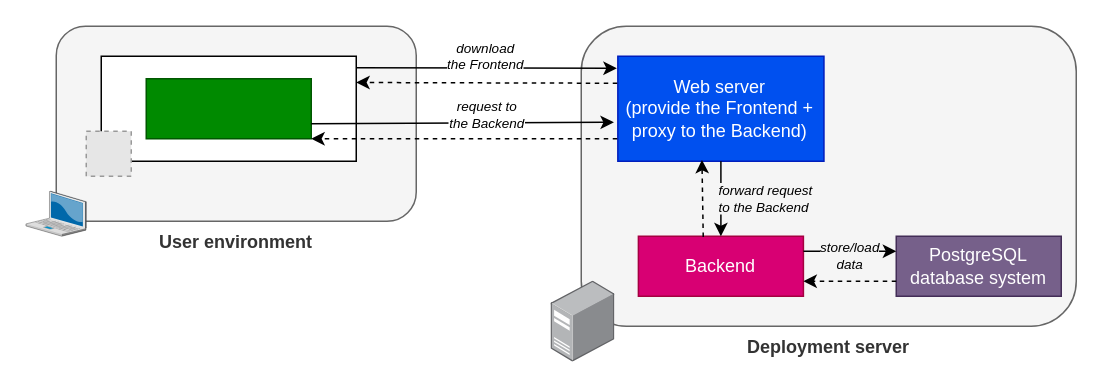
The diagram is 1103 pixels wide and 389 high, and some of its shapes have lost their labels. Grey dashed boxes stand in for pictures. The box of each missing label's shape, as (x1, y1, x2, y2) in pixels:
Browser (eg. Firefox): (100, 55, 356, 161)
Frontend: (145, 77, 311, 139)
